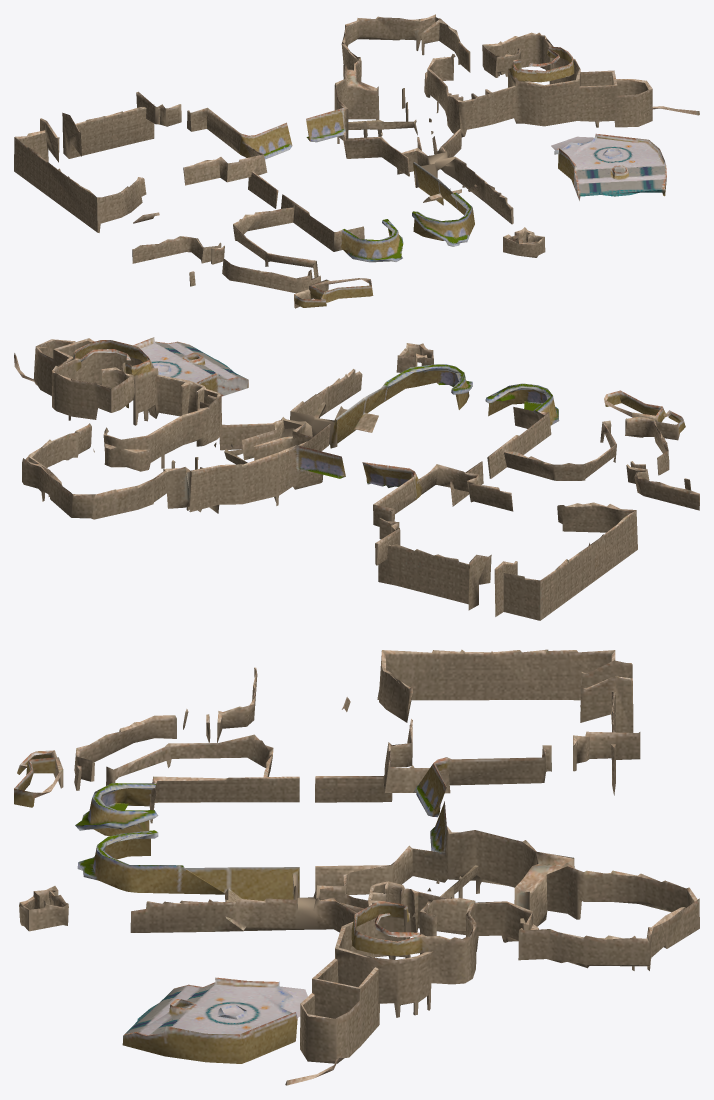
The model's file is clod_c01_both_01_clod000.gltf.
3 renders of one model, top to bottom at view 1: azimuth 30°, elevation 25°; view 2: azimuth 150°, elevation 25°; view 3: azimuth 270°, elevation 25°, orthographic. The views are drawn at different scales.
Parts seen in each view (by area): view 1: clod_c01_both_01_clod000_000_meshShape:remesh_mat; view 2: clod_c01_both_01_clod000_000_meshShape:remesh_mat; view 3: clod_c01_both_01_clod000_000_meshShape:remesh_mat.
Boxes of the visible parts, x1=… form: clod_c01_both_01_clod000_000_meshShape:remesh_mat: x1=14, y1=14, x2=699, y2=308; clod_c01_both_01_clod000_000_meshShape:remesh_mat: x1=14, y1=337, x2=699, y2=620; clod_c01_both_01_clod000_000_meshShape:remesh_mat: x1=14, y1=649, x2=699, y2=1085.
Size of the model in its own units: 413 by 52.15 by 300.
1 material, 1 textured.
